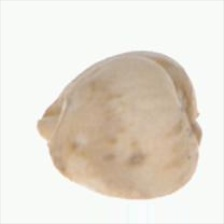L3: (33, 89, 69, 151)
L4: (36, 50, 202, 200)
